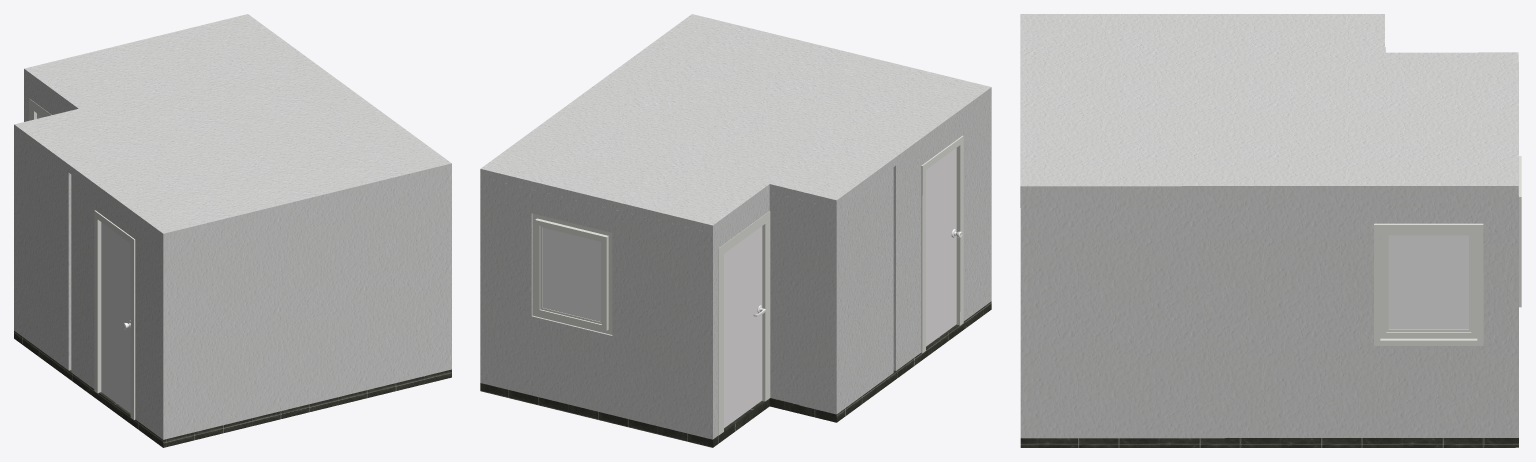
Rendered from FloorPlan416_physics.fbx.
3 views of the same model, side by side, from view 1: azimuth 30°, elevation 25°; view 2: azimuth 150°, elevation 25°; view 3: azimuth 270°, elevation 25° (orthographic). The views are drawn at different scales.
Parts seen in each view (by area): view 1: FP416:Walls, FP416:Ceiling, FP416:Door.012, FP416:Floor, FP416:polySurface351; view 2: FP416:Walls, FP416:Ceiling, FP416:Door.011, FP416:Door.012, FP416:Floor, FP416:polySurface83, FP416:polySurface84, FP416:polySurface350, FP416:polySurface351; view 3: FP416:Walls, FP416:Ceiling, FP416:polySurface80, FP416:polySurface81, FP416:Floor.
Boxes of the visible parts, left/top/right/bottom form: FP416:Walls: left=14, top=77, right=451, bottom=439; FP416:Ceiling: left=14, top=14, right=451, bottom=241; FP416:Door.012: left=101, top=222, right=130, bottom=413; FP416:Floor: left=14, top=331, right=451, bottom=447; FP416:polySurface351: left=94, top=210, right=135, bottom=419; FP416:Walls: left=480, top=96, right=991, bottom=439; FP416:Ceiling: left=480, top=14, right=991, bottom=233; FP416:Door.011: left=724, top=226, right=762, bottom=427; FP416:Door.012: left=926, top=148, right=956, bottom=346; FP416:Floor: left=480, top=301, right=991, bottom=447; FP416:polySurface83: left=542, top=227, right=600, bottom=321; FP416:polySurface84: left=532, top=213, right=612, bottom=334; FP416:polySurface350: left=718, top=211, right=770, bottom=435; FP416:polySurface351: left=921, top=135, right=963, bottom=353; FP416:Walls: left=1020, top=47, right=1518, bottom=438; FP416:Ceiling: left=1020, top=14, right=1518, bottom=195; FP416:polySurface80: left=1388, top=235, right=1468, bottom=329; FP416:polySurface81: left=1374, top=223, right=1483, bottom=345; FP416:Floor: left=1020, top=438, right=1518, bottom=447.
Size of the model in its own units: 343 by 238 by 412.
